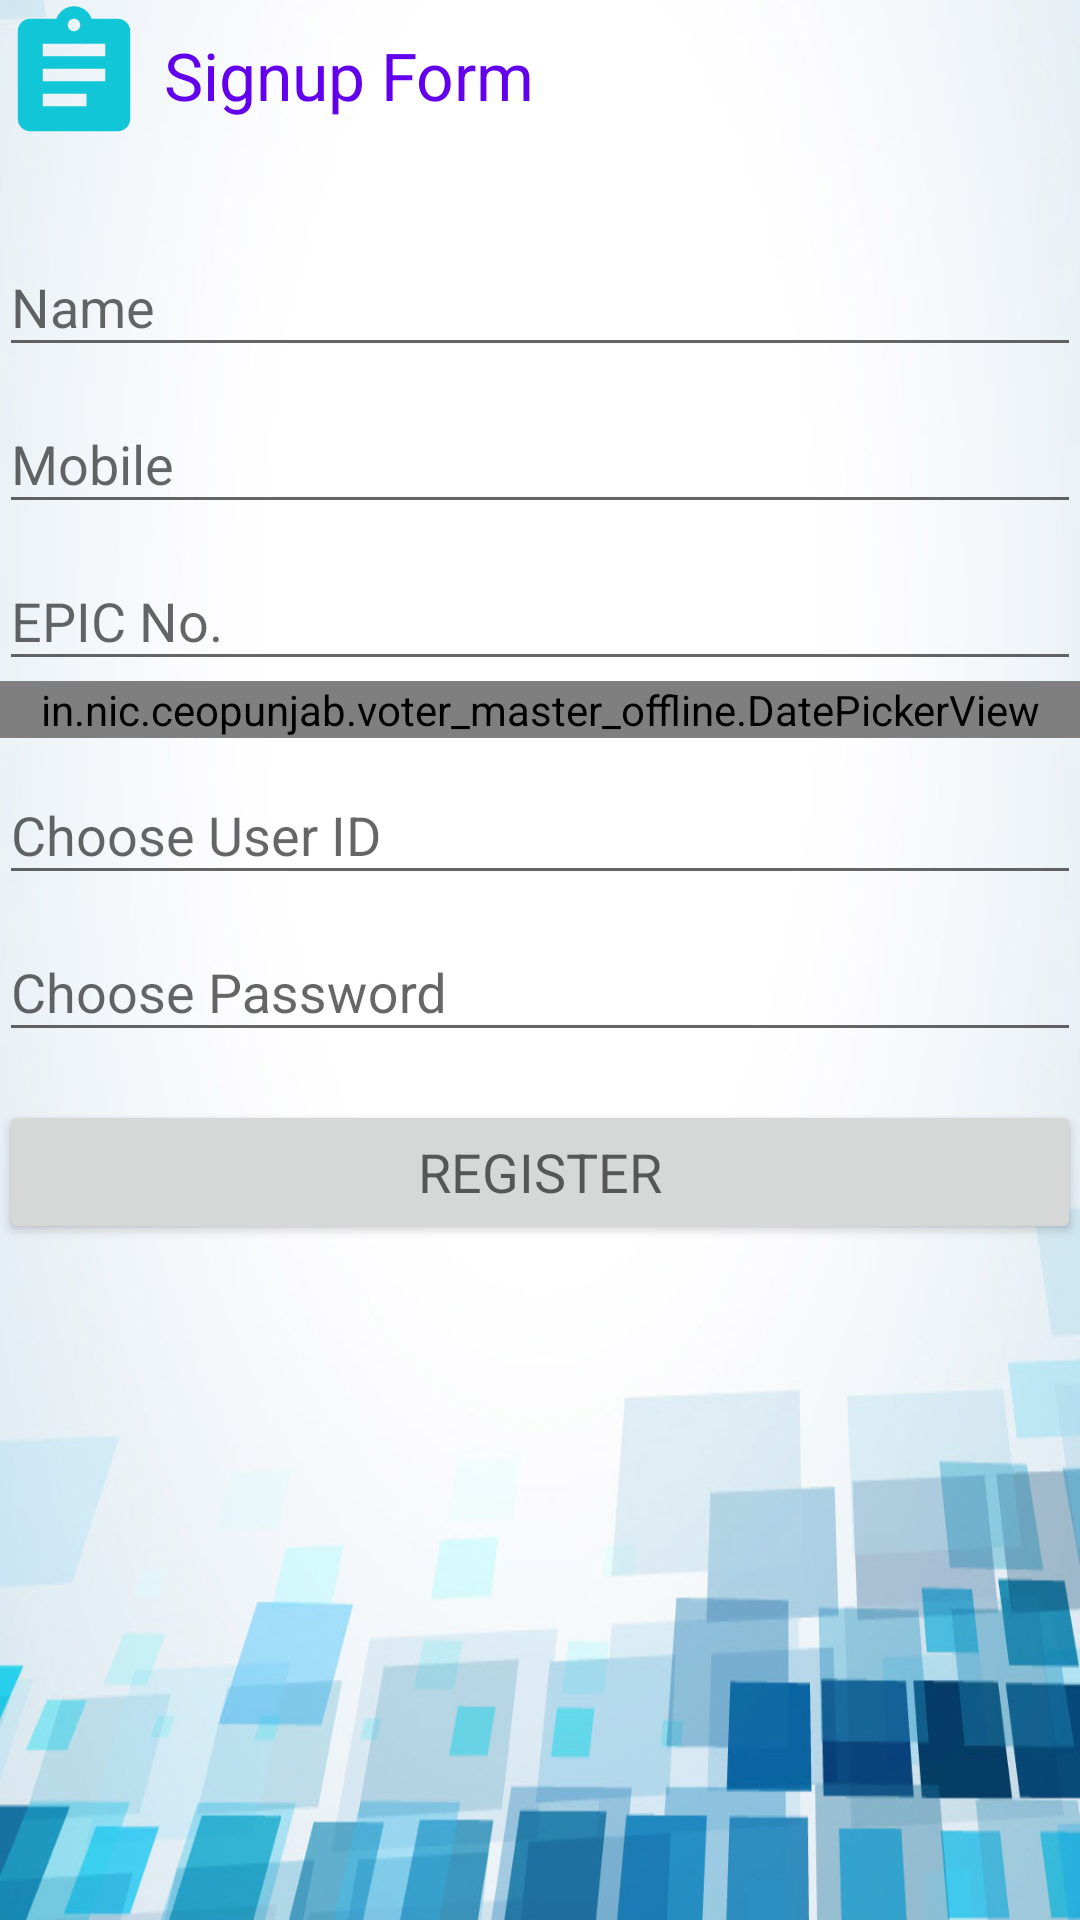

Named icons in this screenshot (1080x1920) and their centers, [x,y]:
assignment: [65,66]
